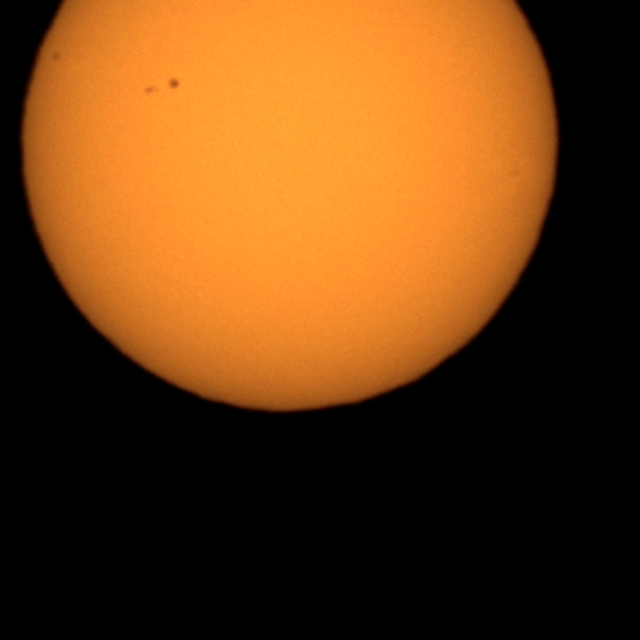sunspot: (142, 76, 182, 96), (142, 83, 160, 97), (167, 77, 181, 91), (50, 50, 62, 64)
